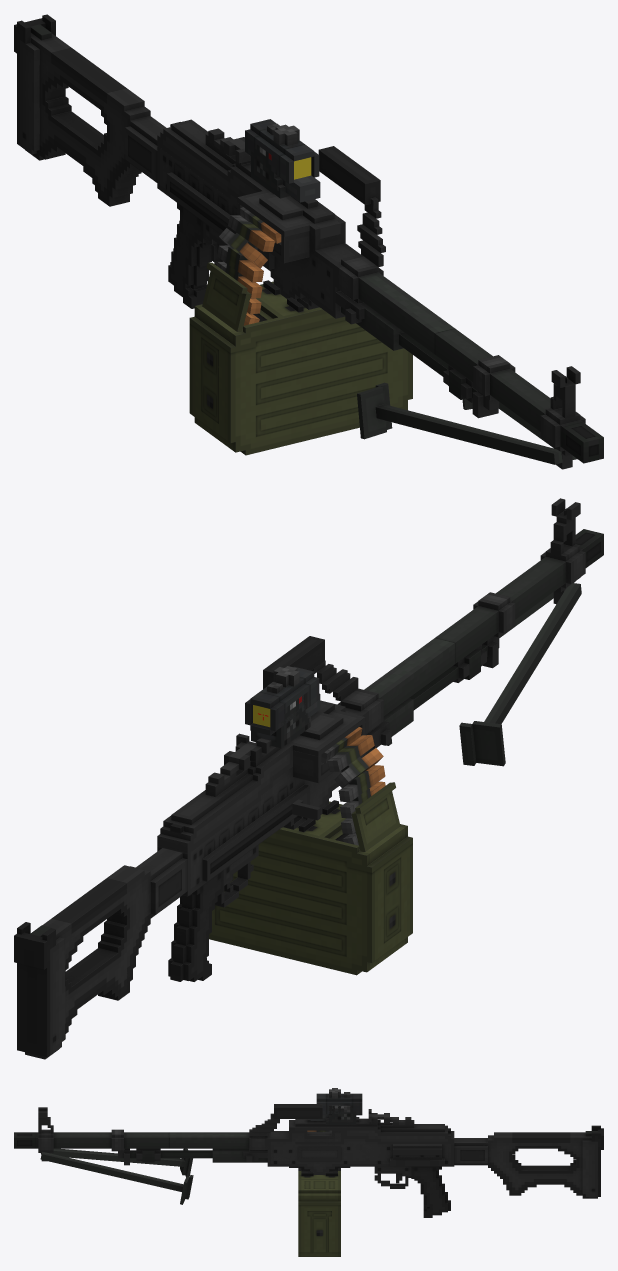
File: RD_PKP_GOLD.glb
The picture shows the model from 3 angles, top to bottom: view 1: azimuth 30°, elevation 25°; view 2: azimuth 150°, elevation 25°; view 3: azimuth 270°, elevation 25°; orthographic projection. The views are drawn at different scales.
Visible parts, largest first — view 1: PKP, PKP_CLIP, PKP_COVER, PKP_DIPOD_LEG1, SCOPE_TASCO, PKP_CLIP_COVER, SCOPE_EOTECH, PKP_BULLET_04, PKP_BULLET_06, PKP_BULLET_05; view 2: PKP, PKP_CLIP, PKP_COVER, PKP_DIPOD_LEG1, SCOPE_TASCO, PKP_CLIP_COVER, SCOPE_EOTECH, PKP_BULLET_04, PKP_BULLET_06, PKP_BULLET_05; view 3: PKP, PKP_CLIP, PKP_COVER, PKP_DIPOD_LEG2, PKP_DIPOD_LEG1, SCOPE_TASCO, SCOPE_EOTECH.
Part boxes in pixels (x1,y1,x2,y2): PKP: (14, 14, 603, 469); PKP_CLIP: (189, 280, 412, 455); PKP_COVER: (157, 119, 340, 238); PKP_DIPOD_LEG1: (357, 382, 562, 464); SCOPE_TASCO: (245, 119, 319, 190); PKP_CLIP_COVER: (202, 262, 251, 331); SCOPE_EOTECH: (251, 145, 320, 202); PKP_BULLET_04: (217, 245, 263, 282); PKP_BULLET_06: (228, 215, 275, 251); PKP_BULLET_05: (219, 228, 267, 268); PKP: (14, 498, 603, 1059); PKP_CLIP: (209, 800, 412, 975); PKP_COVER: (157, 700, 365, 853); PKP_DIPOD_LEG1: (459, 583, 581, 766); SCOPE_TASCO: (245, 666, 319, 745); PKP_CLIP_COVER: (351, 782, 400, 851); SCOPE_EOTECH: (251, 693, 320, 748); PKP_BULLET_04: (338, 765, 385, 802); PKP_BULLET_06: (327, 735, 374, 771); PKP_BULLET_05: (334, 748, 383, 788); PKP: (14, 1104, 603, 1217); PKP_CLIP: (298, 1171, 340, 1256); PKP_COVER: (289, 1109, 454, 1144); PKP_DIPOD_LEG2: (40, 1152, 193, 1204); PKP_DIPOD_LEG1: (41, 1148, 192, 1176); SCOPE_TASCO: (316, 1088, 362, 1124); SCOPE_EOTECH: (310, 1105, 356, 1124).
Size of the model in its own units: 0.3542 by 0.5216 by 1.9.
Materials: 7 (7 with a texture image).
